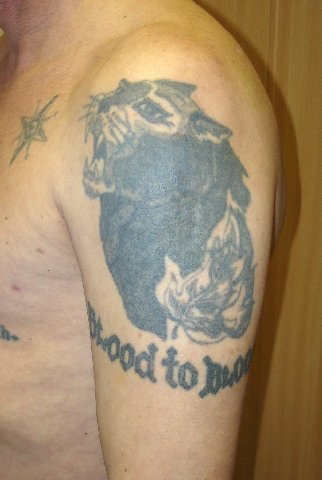tatu3_bukva: (87, 301, 253, 402)
tatu4_zvezda: (7, 92, 61, 169)
tatu5_tigr: (79, 77, 237, 203)
